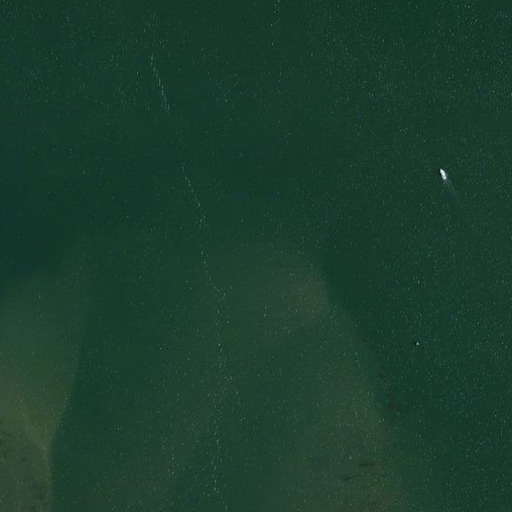ship: (437, 166, 448, 183)
